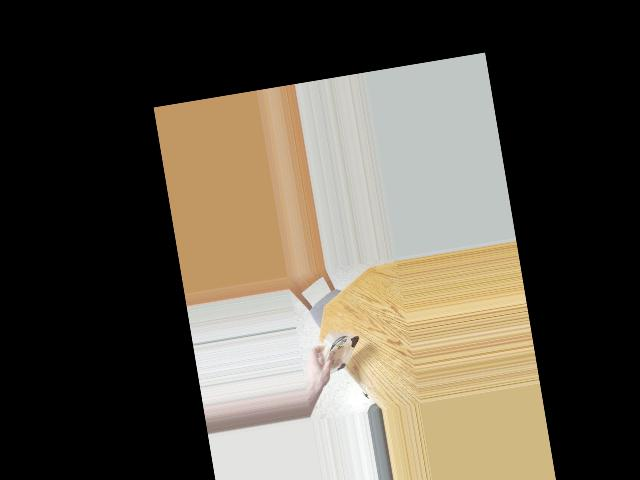cheese: (316, 323, 364, 387)
